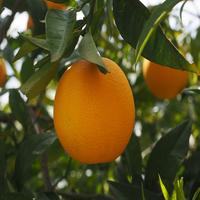orange: (53, 55, 139, 163)
